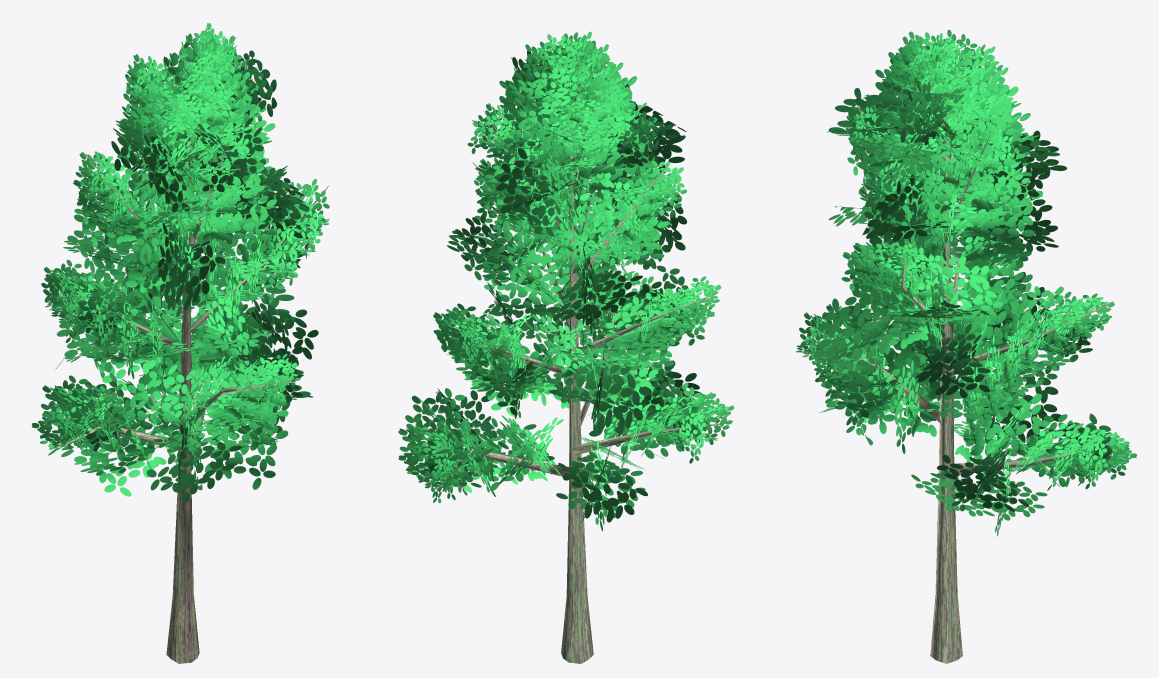
Rendered from jabami_anime_tree_v4.glb.
3 renders of one model, left to right at view 1: azimuth 30°, elevation 25°; view 2: azimuth 150°, elevation 25°; view 3: azimuth 270°, elevation 25°, orthographic. The views are drawn at different scales.
Visible parts, largest first — view 1: textures\bark\bark08; view 2: textures\bark\bark08; view 3: textures\bark\bark08.
Part boxes in pixels (x1,y1,x2,y2): textures\bark\bark08: (31, 23, 329, 663); textures\bark\bark08: (398, 31, 734, 663); textures\bark\bark08: (796, 29, 1136, 663).
Bounding box in the file's own units: 4.72 × 8.85 × 4.56.
3 materials, 3 textured.
